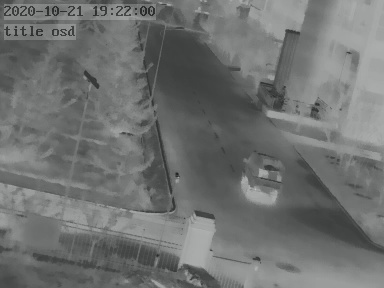vehicle: (240, 154, 286, 199)
